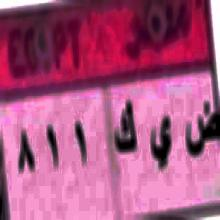1: (44, 116, 62, 177), (72, 116, 90, 169)
8: (16, 129, 35, 177)
daad: (182, 100, 220, 157)
kaaf: (111, 97, 140, 162)
yaa: (148, 114, 173, 170)
